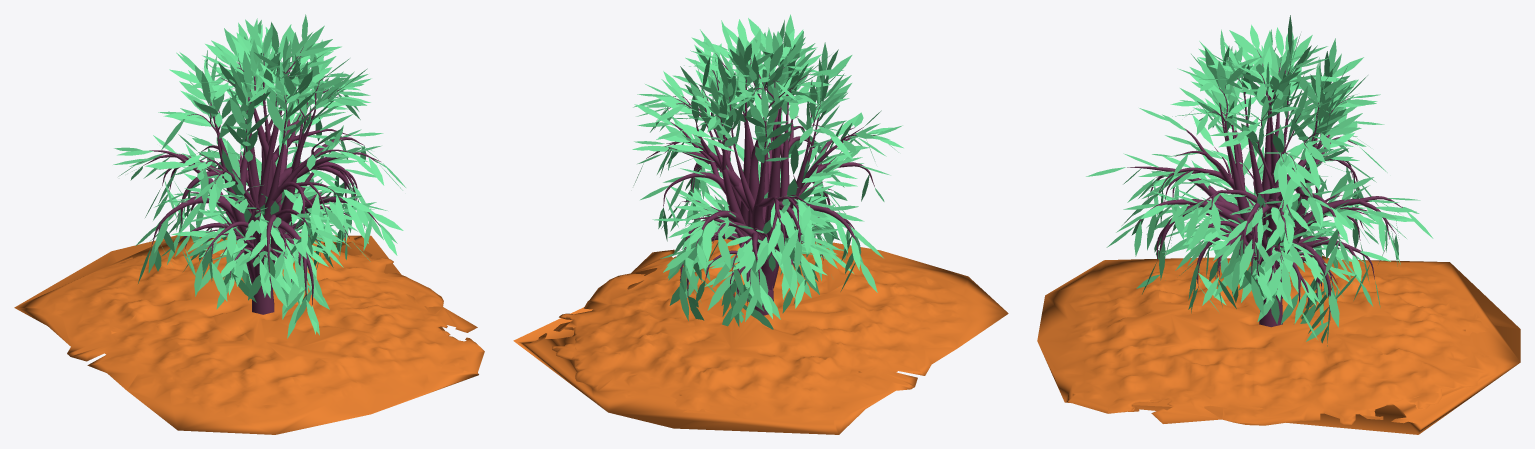
The model's file is landscape_island.glb.
3 renders of one model, left to right at view 1: azimuth 30°, elevation 25°; view 2: azimuth 150°, elevation 25°; view 3: azimuth 270°, elevation 25°, orthographic. The views are drawn at different scales.
Visible parts, largest first — view 1: Landscape, leaves, tree; view 2: Landscape, leaves, tree; view 3: Landscape, leaves, tree.
Boxes of the visible parts, <box> form: Landscape: <box>14,235,484,434</box>; leaves: <box>113,14,405,338</box>; tree: <box>139,46,380,314</box>; Landscape: <box>513,239,1008,434</box>; leaves: <box>632,14,903,329</box>; tree: <box>646,51,875,315</box>; Landscape: <box>1037,255,1520,434</box>; leaves: <box>1086,15,1433,346</box>; tree: <box>1127,50,1402,327</box>.
Size of the model in its own units: 34.81 by 28.84 by 40.01.
